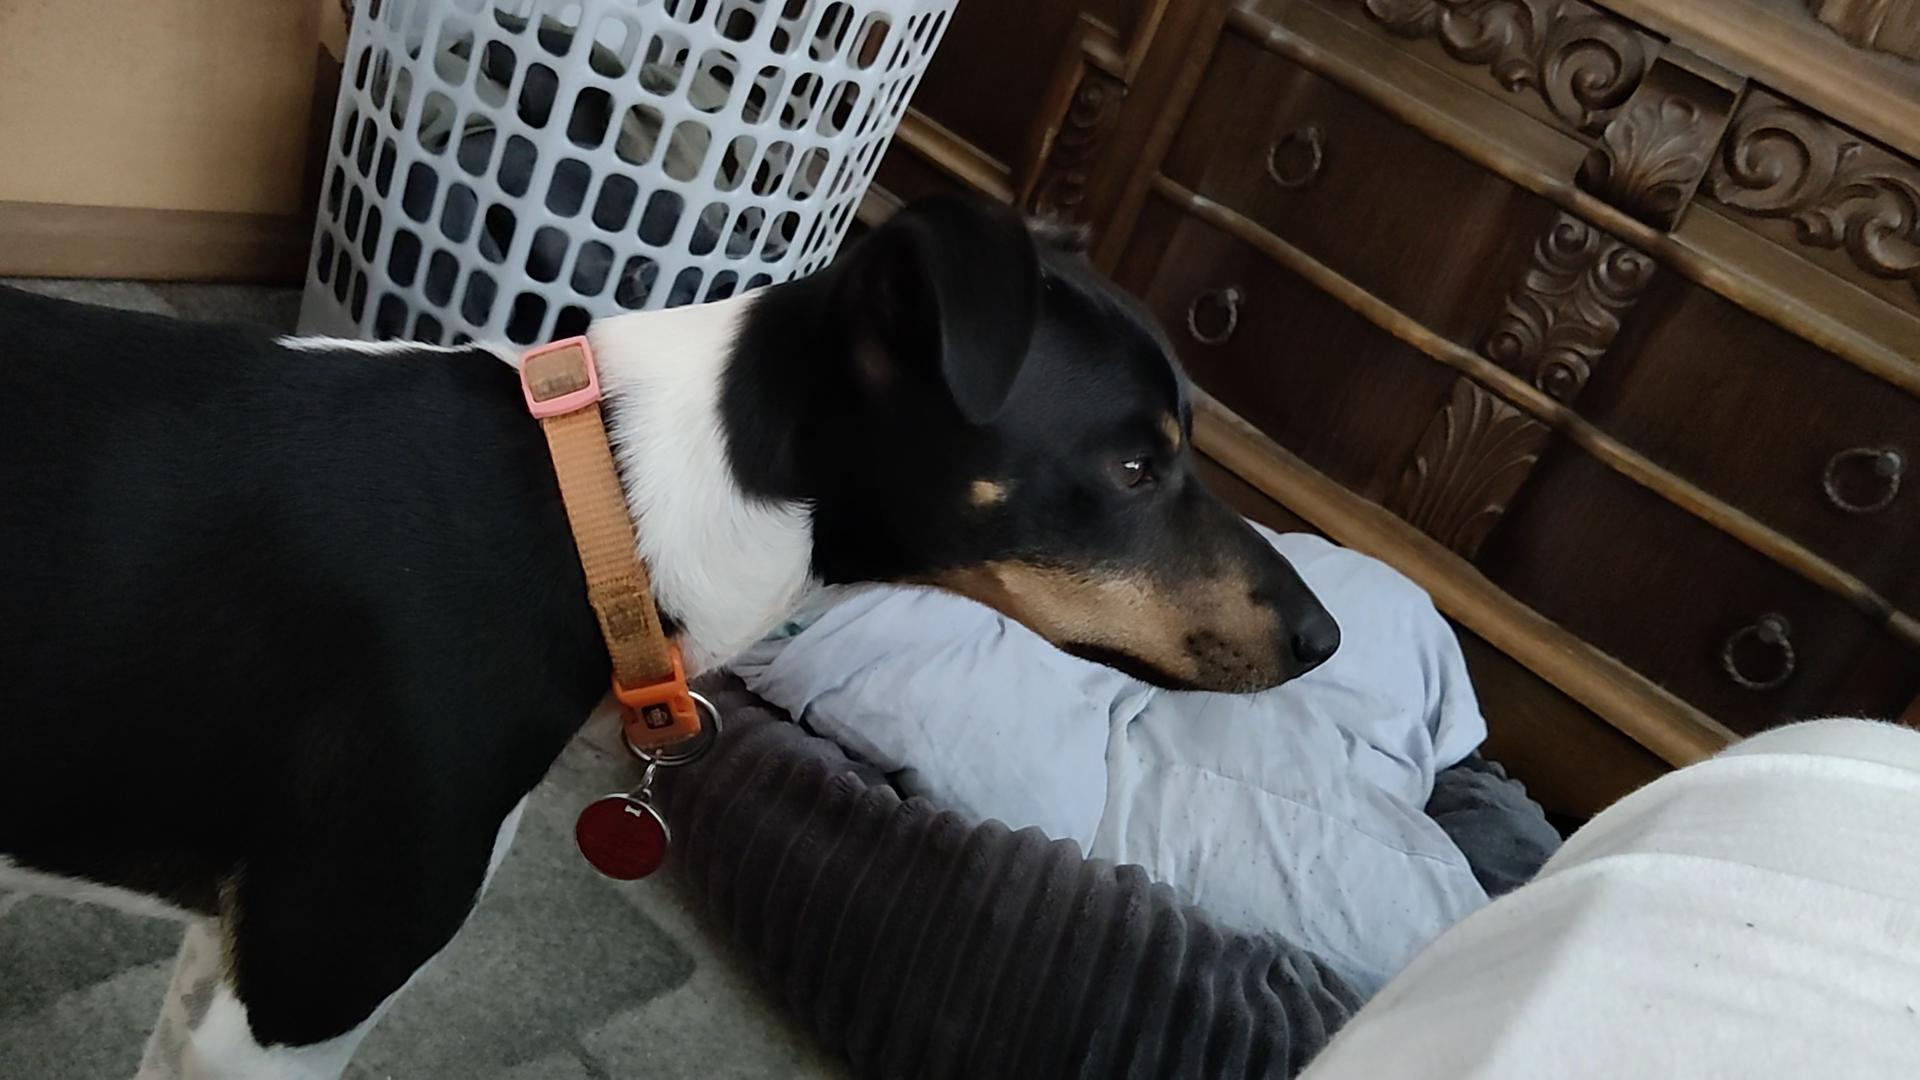Dog: (0, 171, 1348, 1079)
